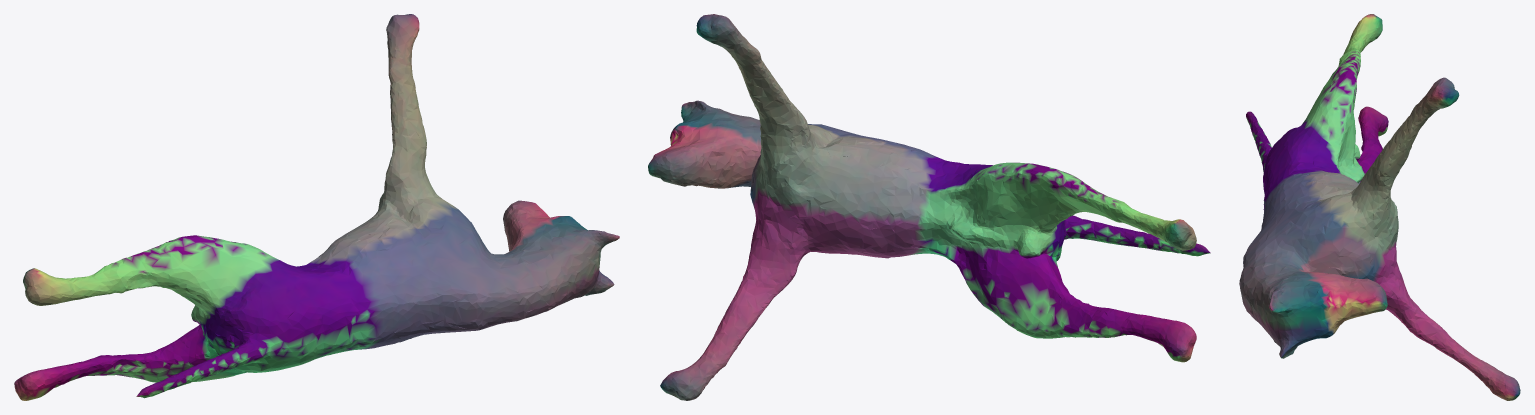
The model's file is dog2-1.off.obj.
The picture shows the model from 3 angles, left to right: view 1: azimuth 30°, elevation 25°; view 2: azimuth 150°, elevation 25°; view 3: azimuth 270°, elevation 25°; orthographic projection. The views are drawn at different scales.
Size of the model in its own units: 1.57 by 0.9474 by 0.7553.
